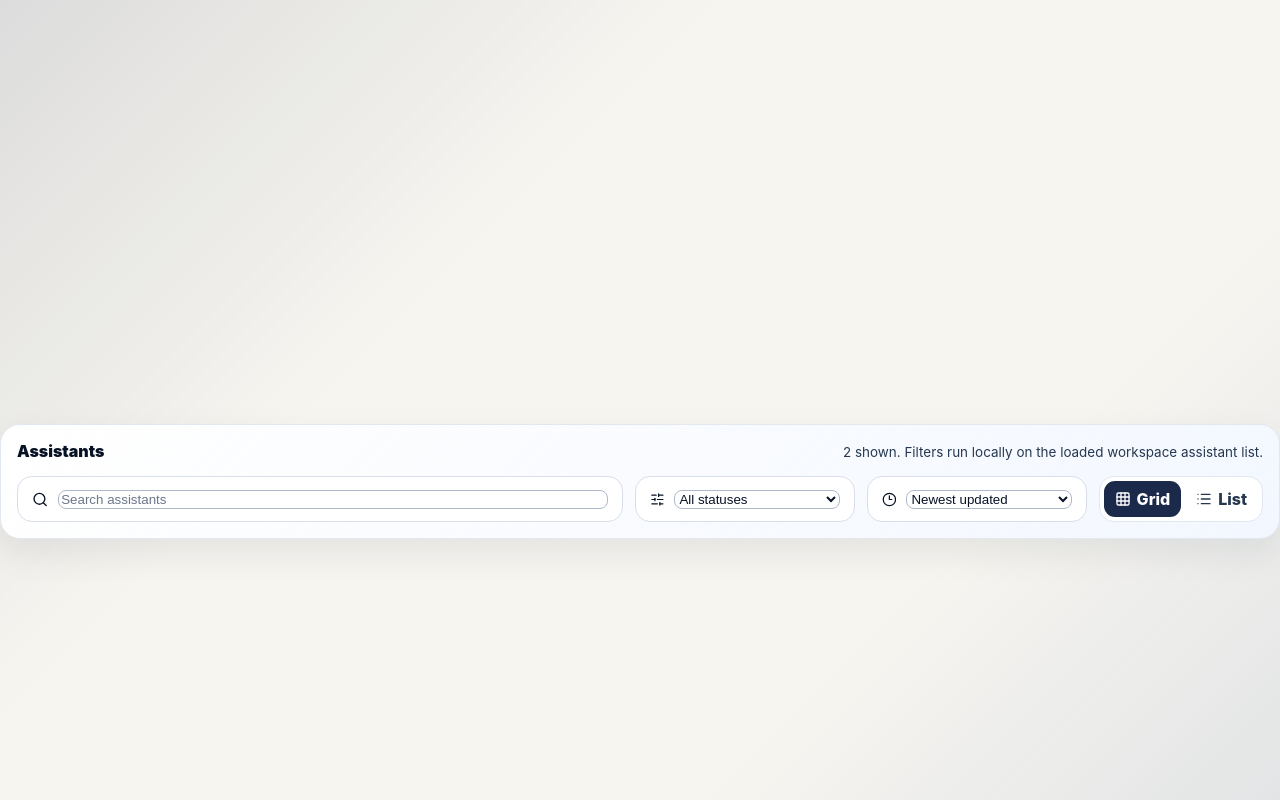
Test: AssistantManagement › filters assistants by name and status
Type "sales" into the field with placeholder "Search assistants".
click(333, 499); type("sales")  # box [58,490,608,509]
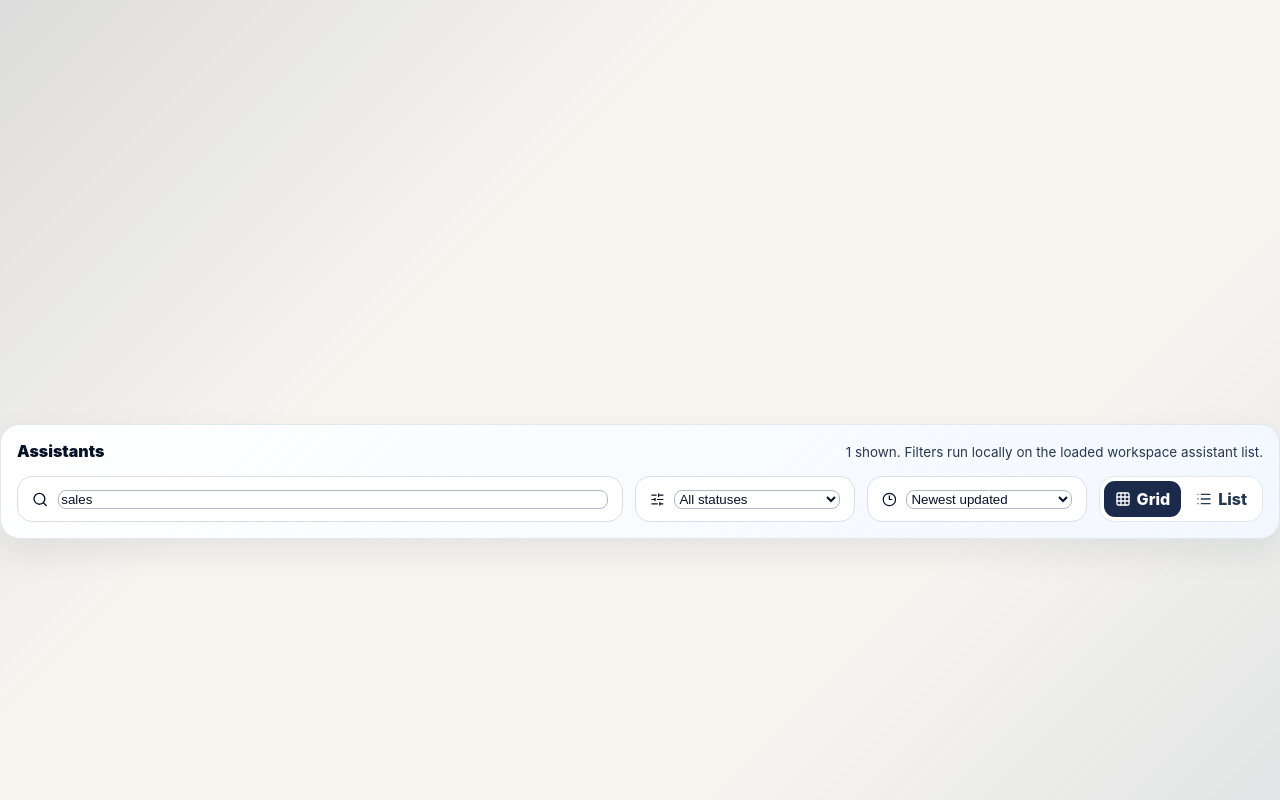
Select "Published" in the 1st dropdown named "filter assistants by status" at (757, 499), box [674,490,840,509]
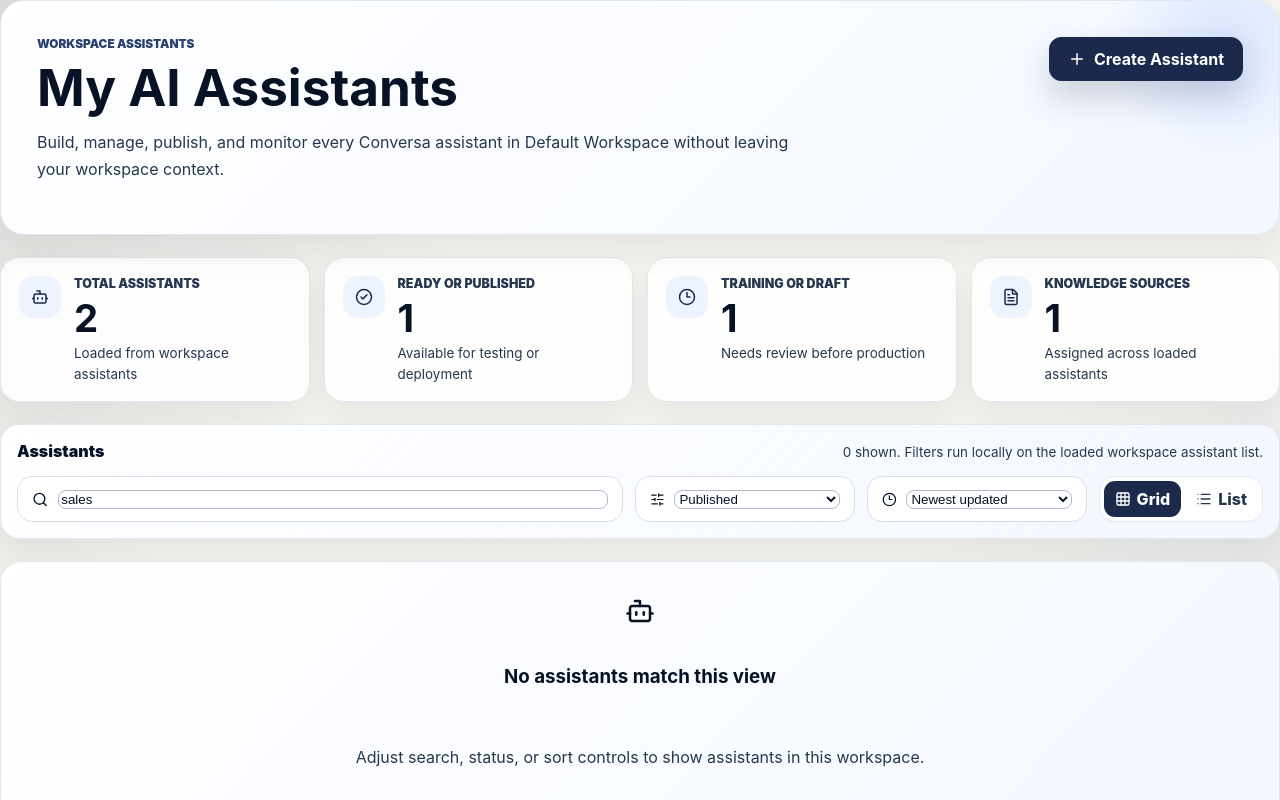
Now the heading "No assistants match this view" is shown, box [504,666,776,688]
